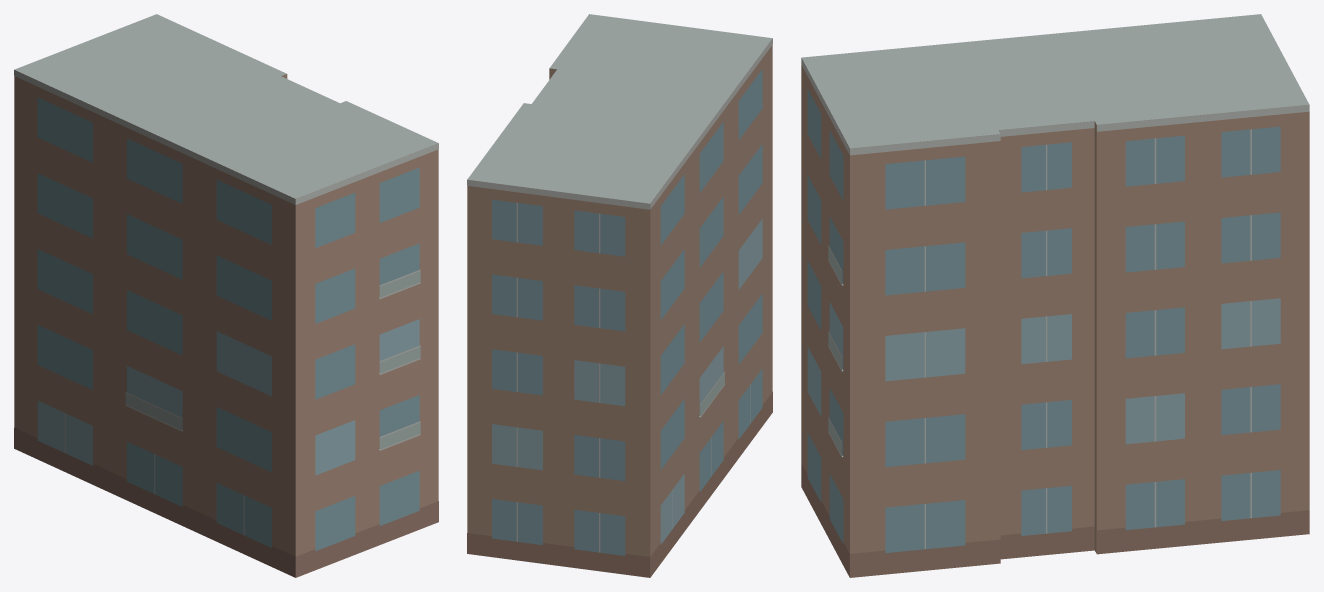
The model's file is survey-upis-32728475.glb.
The picture shows the model from 3 angles, left to right: view 1: azimuth 30°, elevation 25°; view 2: azimuth 150°, elevation 25°; view 3: azimuth 270°, elevation 25°; orthographic projection. The views are drawn at different scales.
Parts seen in each view (by area): view 1: survey-upis-32728475.tmp; view 2: survey-upis-32728475.tmp; view 3: survey-upis-32728475.tmp.
Boxes of the visible parts, x1,y1,x2,y2 form: survey-upis-32728475.tmp: (14, 14, 438, 577); survey-upis-32728475.tmp: (467, 14, 772, 577); survey-upis-32728475.tmp: (801, 14, 1309, 577).
Bounding box in the file's own units: 10.15 × 15.1 × 16.21.
